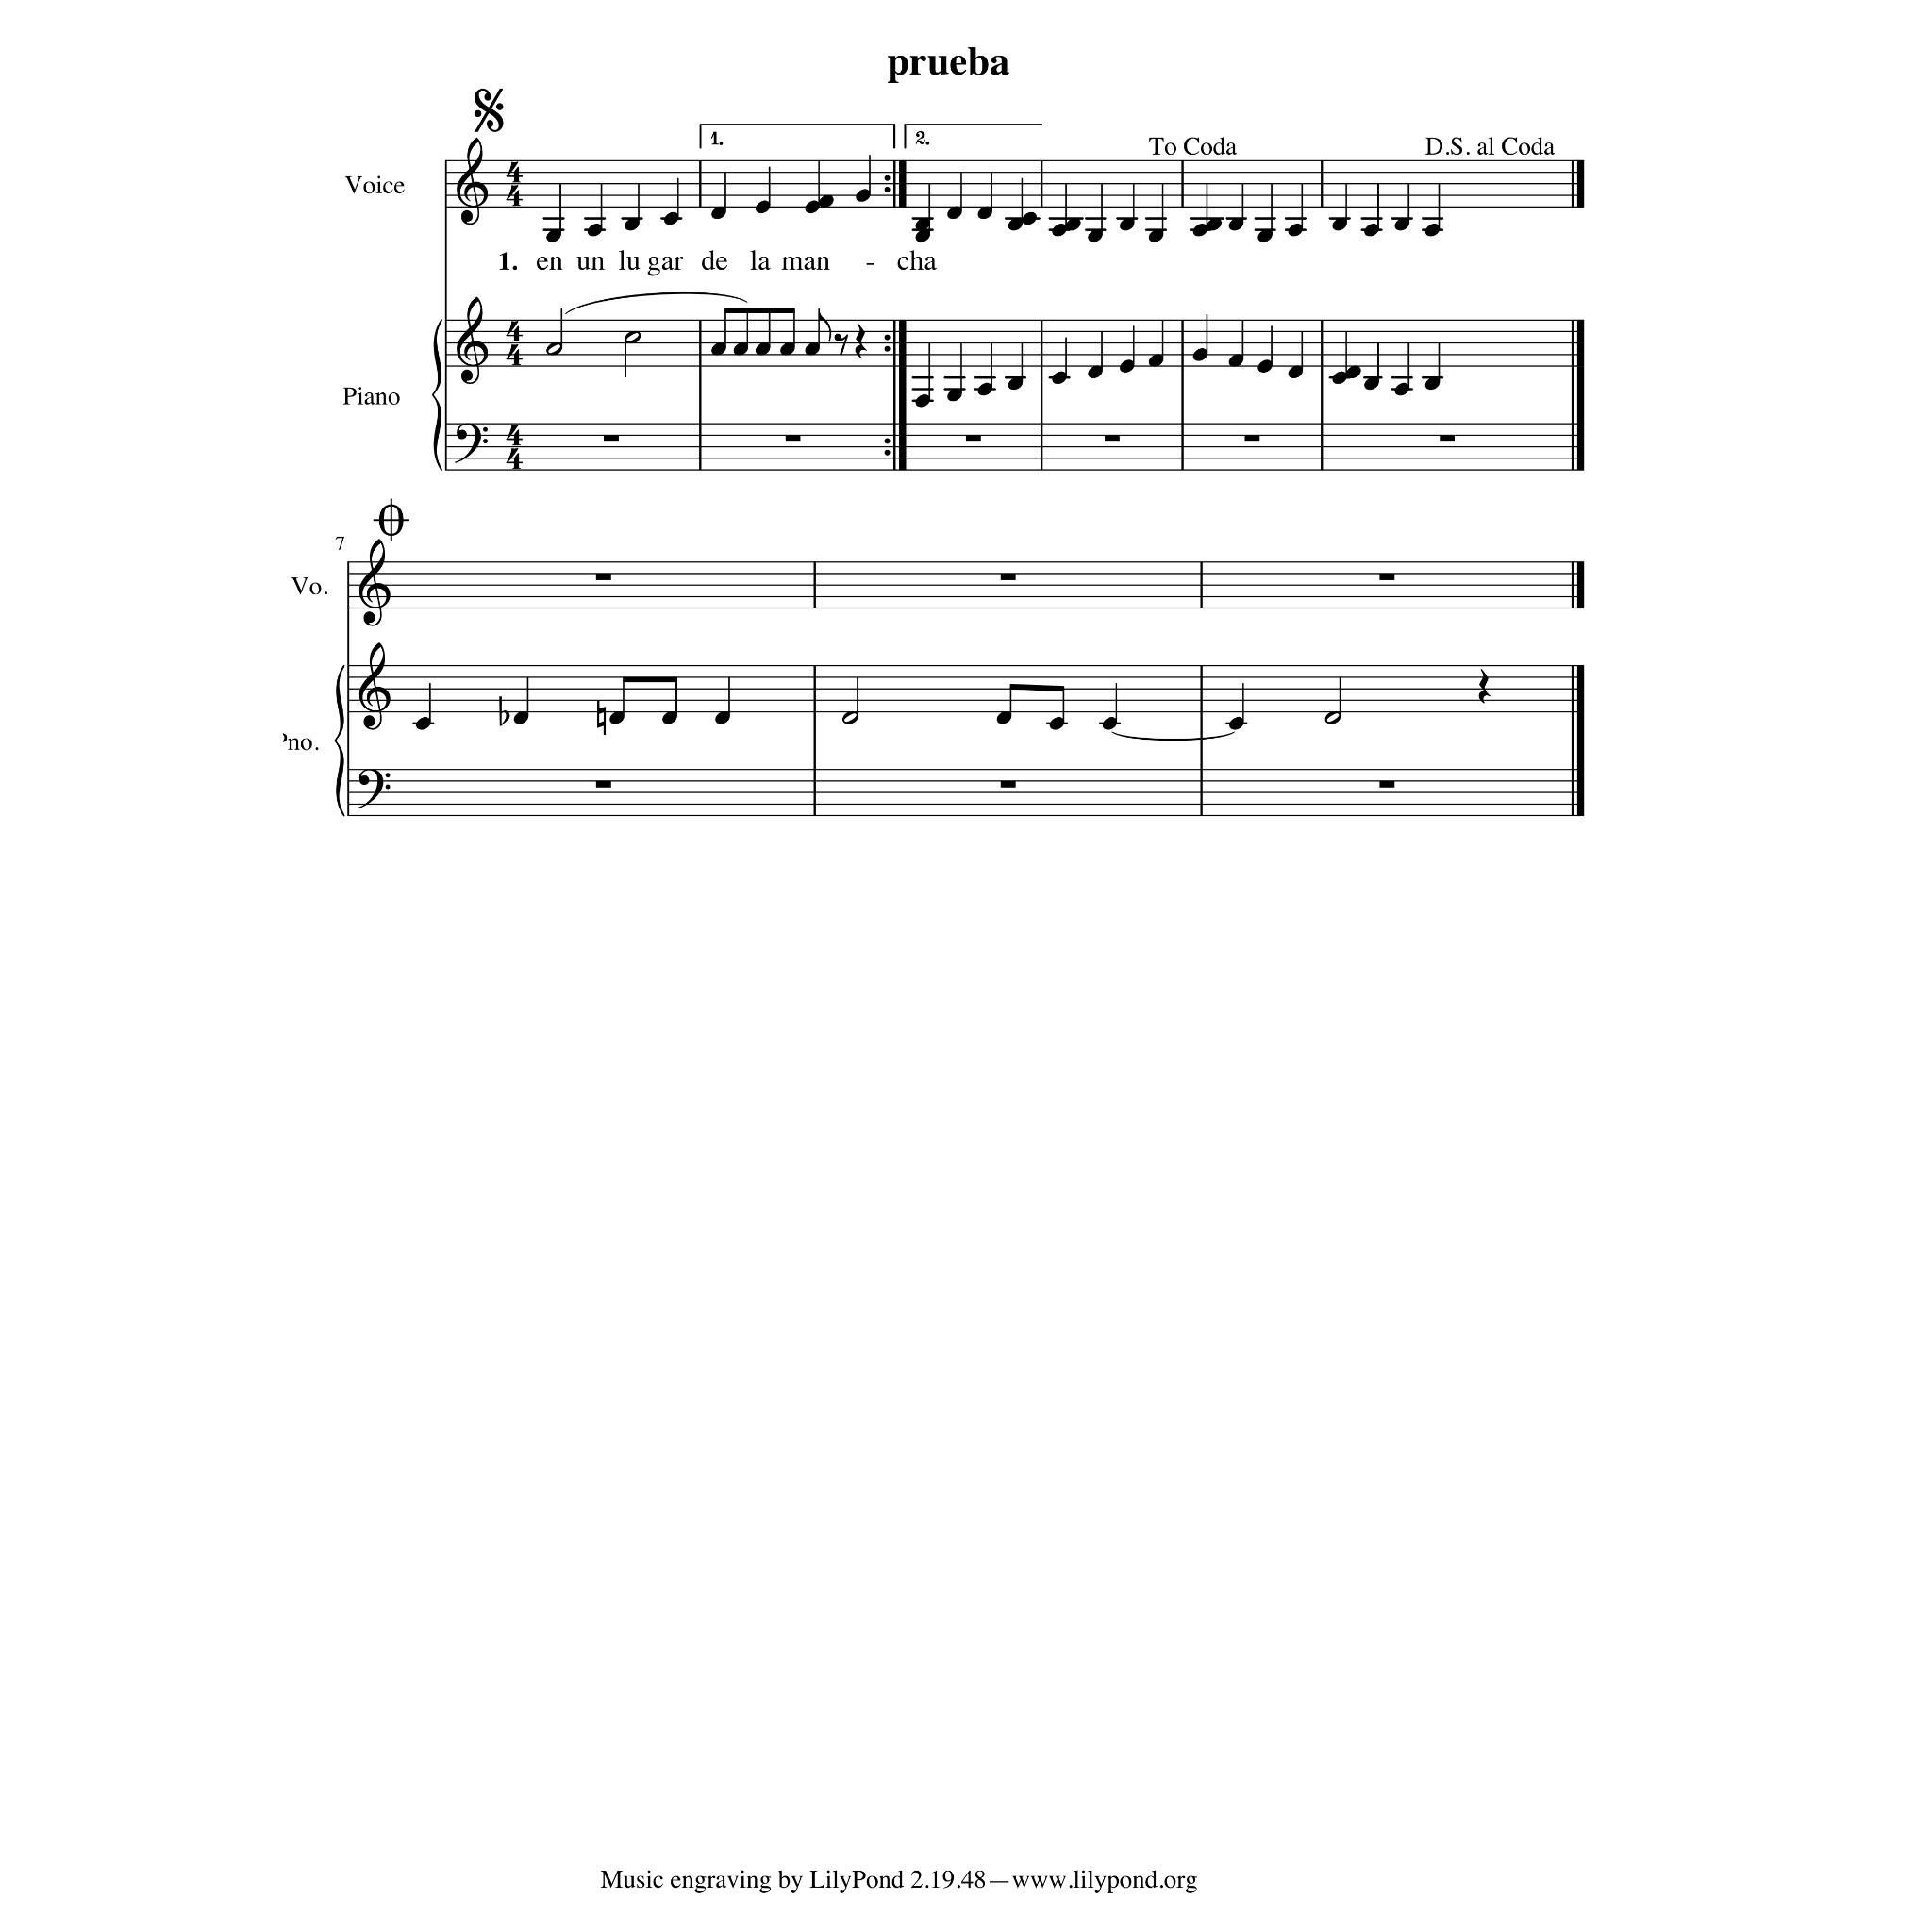brace: (431, 319, 442, 472), (333, 665, 344, 818)
fClef: (454, 423, 488, 464), (357, 770, 391, 809)
flag8thUp: (818, 308, 831, 342)
gClef: (456, 296, 488, 385), (456, 138, 488, 226), (358, 642, 391, 731), (358, 539, 391, 627)
noteheadBlack: (1021, 211, 1038, 226), (664, 211, 679, 226), (1051, 224, 1068, 237), (1257, 229, 1274, 242), (1257, 359, 1274, 373), (1206, 218, 1223, 231), (1087, 229, 1104, 242), (1051, 372, 1068, 385), (1064, 218, 1081, 231), (1147, 355, 1164, 368), (1147, 229, 1164, 242), (1119, 359, 1136, 373), (1119, 218, 1136, 231), (1087, 366, 1104, 379), (1287, 366, 1304, 379), (1287, 224, 1304, 237), (732, 342, 749, 356), (545, 229, 562, 242), (804, 342, 821, 356), (804, 201, 821, 214), (779, 342, 796, 356), (855, 190, 872, 203), (1228, 717, 1245, 730), (660, 711, 677, 724), (1192, 348, 1207, 361), (1192, 224, 1207, 237), (1228, 218, 1243, 231), (1228, 355, 1243, 368), (1424, 377, 1440, 391), (1424, 224, 1440, 237), (1394, 383, 1409, 396), (1345, 366, 1360, 379), (1332, 372, 1347, 385), (1332, 218, 1347, 231), (1394, 218, 1409, 231), (1364, 377, 1379, 391), (1364, 224, 1379, 237), (711, 342, 726, 356), (711, 207, 726, 220), (755, 201, 770, 214), (625, 218, 640, 231), (587, 224, 602, 237), (755, 342, 770, 356), (977, 383, 992, 396), (915, 394, 930, 408), (915, 218, 930, 231), (915, 229, 930, 242), (947, 389, 962, 402), (947, 207, 962, 220), (977, 207, 992, 220), (819, 195, 834, 208), (1008, 377, 1023, 391), (1008, 218, 1023, 231), (996, 711, 1011, 724), (1102, 717, 1117, 730), (1049, 717, 1064, 730), (415, 717, 430, 730), (513, 711, 528, 724), (715, 711, 730, 724), (609, 711, 625, 724)
noteheadHalf: (545, 342, 562, 356), (624, 331, 641, 344), (1324, 711, 1341, 724), (841, 711, 858, 724)
rest8th: (834, 333, 849, 356)
restQuarter: (1477, 669, 1491, 705), (855, 323, 866, 358)
restWhole: (964, 435, 981, 442), (1104, 435, 1121, 442), (1243, 435, 1260, 442), (594, 574, 611, 581), (594, 781, 611, 789), (785, 435, 800, 442), (1440, 435, 1455, 442), (604, 435, 619, 442), (1000, 781, 1015, 789), (1000, 574, 1015, 581), (1379, 574, 1394, 581), (1379, 781, 1394, 789)
